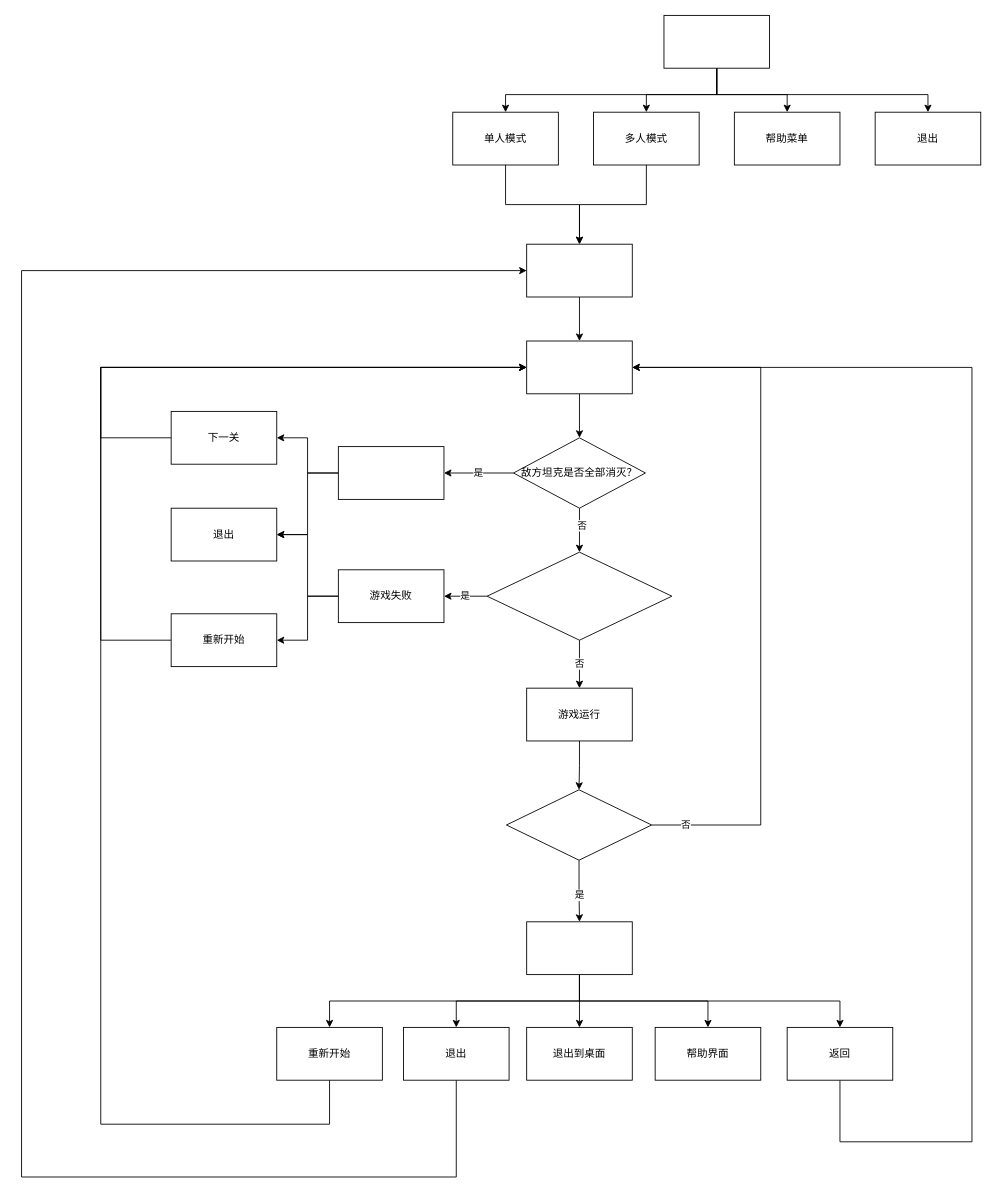
This 996x1199 diagram has some shape labels left out. Here are the shapes that lost their labels. From the top down, the centre of each, then its label:
At (716,41): "开始主菜单".
At (579,270): "选关界面".
At (579,367): "开始游戏".
At (390,472): "游戏胜利".
At (579,595): "我方坦克是否全部被打败？ OR 我方基地是否被击破？".
At (579,824): "切出ESC菜单？".
At (579,948): "ESC菜单".
